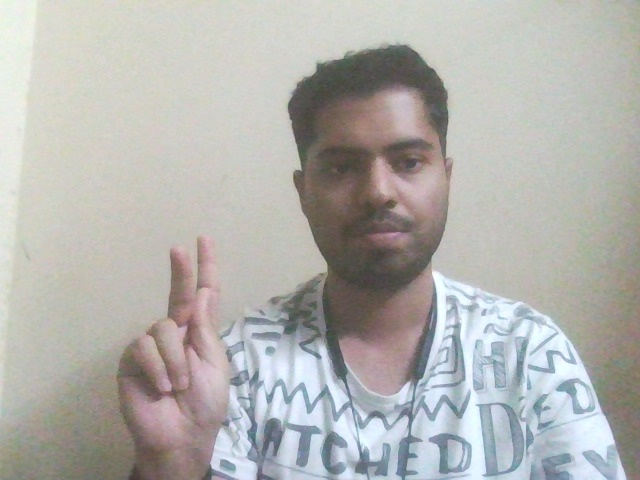M: (109, 212, 283, 476)
